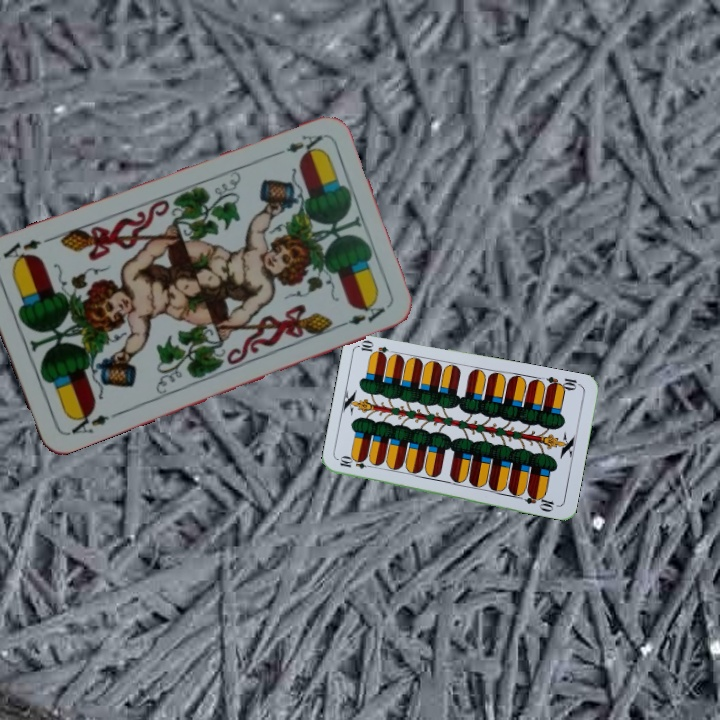E10: (543, 372, 583, 393), (336, 454, 376, 472)
EA: (268, 130, 326, 159), (64, 406, 112, 438)
